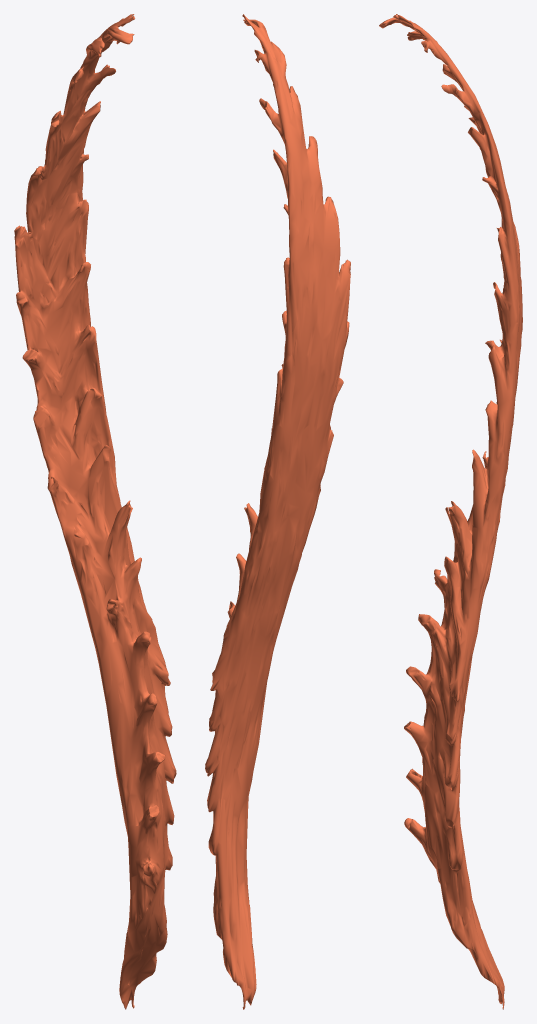
File: Longissimus_thoracis.r_Generated_Mesh_From_X3D.369.glb
3 views of the same model, side by side, from view 1: azimuth 30°, elevation 25°; view 2: azimuth 210°, elevation 25°; view 3: azimuth 270°, elevation 25° (orthographic). The views are drawn at different scales.
Visible parts, largest first — view 1: Longissimus_thoracis.r_Generated_Mesh_From_X3D.369; view 2: Longissimus_thoracis.r_Generated_Mesh_From_X3D.369; view 3: Longissimus_thoracis.r_Generated_Mesh_From_X3D.369.
Boxes of the visible parts, box(x1,y1,x2,y2) form: Longissimus_thoracis.r_Generated_Mesh_From_X3D.369: box(14, 14, 176, 1009); Longissimus_thoracis.r_Generated_Mesh_From_X3D.369: box(205, 14, 350, 1009); Longissimus_thoracis.r_Generated_Mesh_From_X3D.369: box(379, 14, 522, 1009).
Bounding box in the file's own units: 0.072 × 0.5482 × 0.0737.
